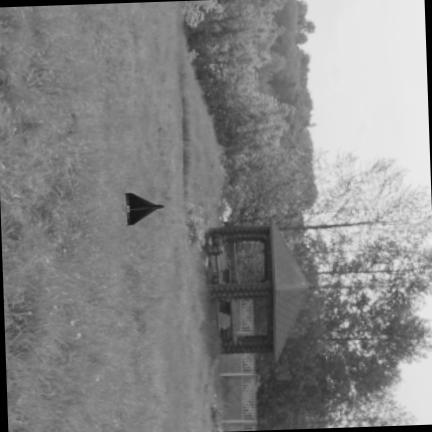Shahed: (123, 194, 164, 226)
